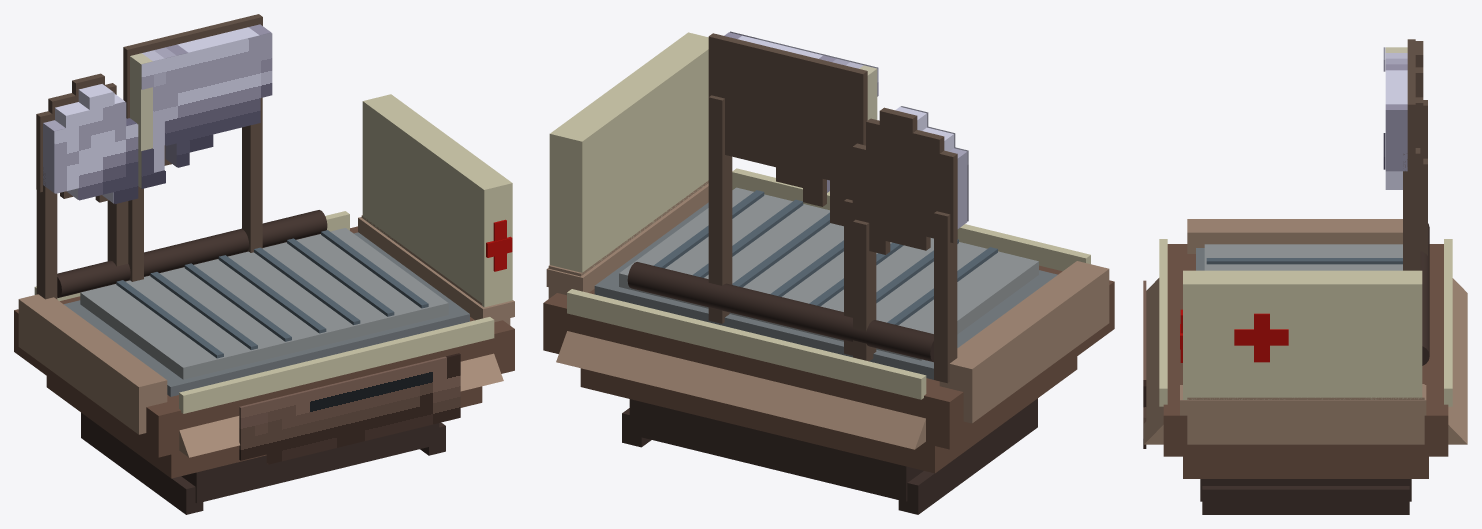
Rendered from CMU3DAutodocPodCloudNorth.glb.
3 renders of one model, left to right at view 1: azimuth 30°, elevation 25°; view 2: azimuth 150°, elevation 25°; view 3: azimuth 270°, elevation 25°, orthographic. The views are drawn at different scales.
Parts seen in each view (by area): view 1: patient pad, cream medical endplate, original open glass contour and sheen (×2), original brown service fascia, right stepped rounded end, lid hinge support (×4), separate mattress channels (×7), wide patient-bay base, rim rail, recessed undercarriage, rear lid hinge, mattress inset (+6 smaller); view 2: solid lid frame behind glass (×18), cream medical endplate, patient pad, rim rail (×2), right stepped rounded end, far bevelled fascia, wide patient-bay base, lid hinge support (×4), recessed undercarriage, lower cast chassis, rear lid hinge, mattress inset (+5 smaller); view 3: cream medical endplate, wide patient-bay base, left stepped rounded end, cast support foot, right stepped rounded end, lower cast chassis, patient pad, endplate lower brown edging, rim rail (×2), far bevelled fascia, lid hinge support (×2), near bevelled fascia (+8 smaller).
Part boxes in pixels (x1,y1,x2,y2): patient pad: [80, 228, 448, 379]; cream medical endplate: [362, 94, 512, 307]; original open glass contour and sheen (×2): [54, 32, 272, 203]; original brown service fascia: [239, 353, 460, 464]; right stepped rounded end: [18, 294, 167, 434]; lid hinge support (×4): [36, 97, 262, 299]; separate mattress channels (×7): [116, 230, 428, 358]; wide patient-bay base: [14, 226, 514, 457]; rim rail: [179, 317, 494, 413]; recessed undercarriage: [181, 423, 439, 503]; rear lid hinge: [57, 210, 327, 297]; mattress inset: [64, 232, 469, 396]; solid lid frame behind glass (×18): [708, 33, 957, 254]; cream medical endplate: [549, 32, 708, 273]; patient pad: [619, 187, 1038, 360]; rim rail (×2): [567, 168, 1090, 399]; right stepped rounded end: [939, 261, 1109, 423]; far bevelled fascia: [556, 331, 925, 449]; wide patient-bay base: [543, 265, 1114, 449]; lid hinge support (×4): [708, 95, 957, 383]; recessed undercarriage: [629, 399, 923, 501]; lower cast chassis: [580, 356, 1077, 473]; rear lid hinge: [627, 262, 933, 362]; mattress inset: [594, 202, 1057, 379]; cream medical endplate: [1183, 270, 1422, 399]; wide patient-bay base: [1163, 244, 1448, 456]; left stepped rounded end: [1187, 384, 1424, 444]; cast support foot: [1202, 486, 1409, 514]; right stepped rounded end: [1187, 219, 1402, 253]; lower cast chassis: [1183, 456, 1428, 478]; patient pad: [1204, 244, 1402, 270]; endplate lower brown edging: [1180, 385, 1426, 415]; rim rail (×2): [1159, 239, 1452, 406]; far bevelled fascia: [1448, 278, 1467, 444]; lid hinge support (×2): [1403, 148, 1427, 270]; near bevelled fascia: [1144, 278, 1163, 444].
Size of what is drawn, in the model's own units: 0.985 by 0.9663 by 0.752.
Materials: 18 (3 with a texture image).
